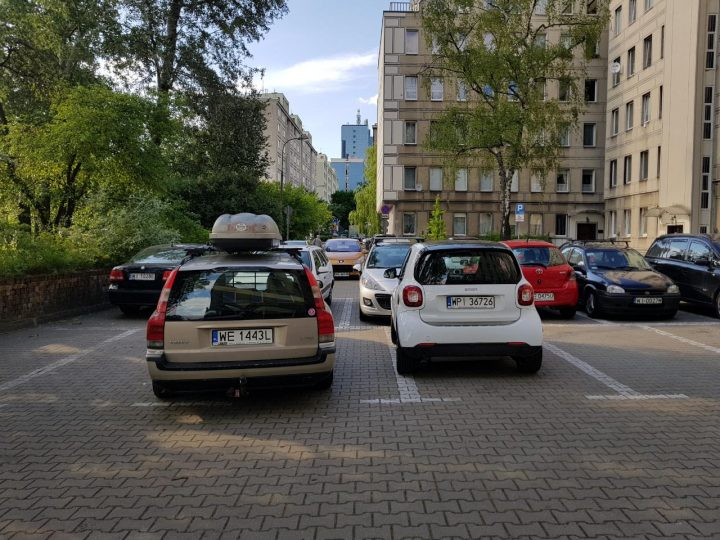car: (145, 246, 331, 396), (390, 240, 550, 380), (577, 244, 680, 321)
